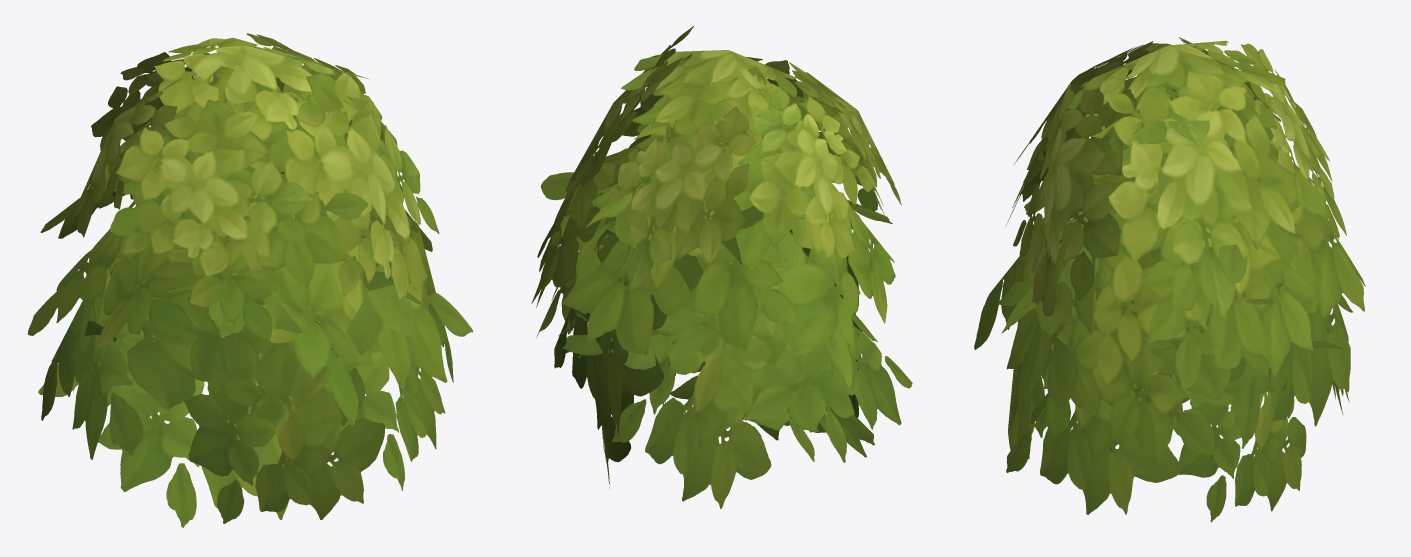
Rendered from Tyj_cdM_015.fbx.
3 renders of one model, left to right at view 1: azimuth 30°, elevation 25°; view 2: azimuth 150°, elevation 25°; view 3: azimuth 270°, elevation 25°, orthographic. The views are drawn at different scales.
Visible parts, largest first — view 1: Tyj_cdM_015; view 2: Tyj_cdM_015; view 3: Tyj_cdM_015.
Part boxes in pixels (x1,y1,x2,y2): Tyj_cdM_015: (27,33,473,527); Tyj_cdM_015: (531,25,912,508); Tyj_cdM_015: (974,37,1365,522).
Bounding box in the file's own units: 485 × 546 × 494.
